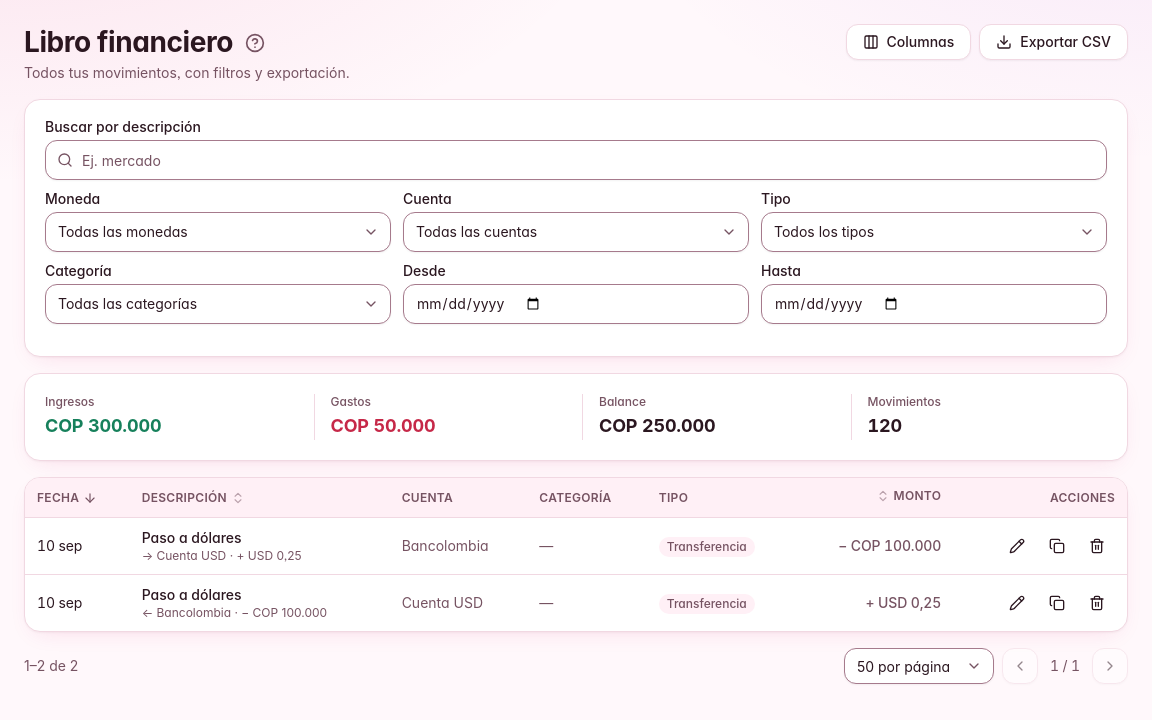
Test: Ledger — editar transferencias (M8) › abre la transferencia completa con el importe de cada pata
The width and height of the screenshot is (1152, 720).
Click the button named "Editar Paso a dólares" in the row of "→ Cuenta USD · + USD 0,25". click: [1017, 546]
box: [999,528,1035,564]
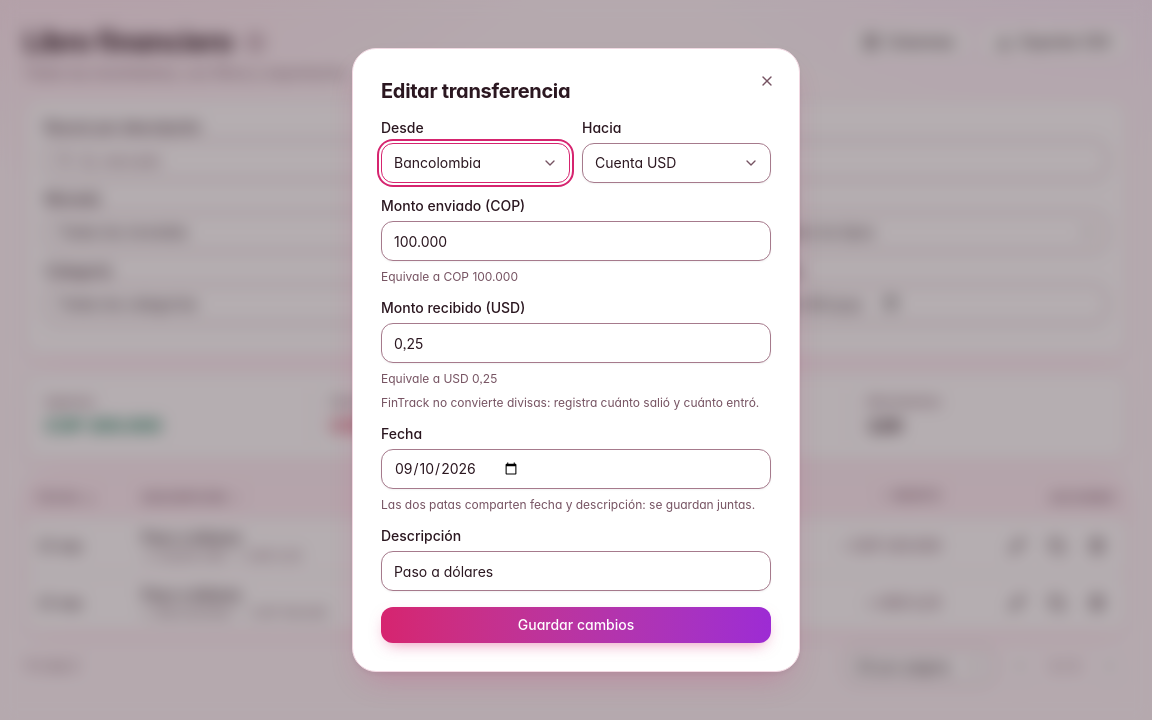
Expected: the heading "Editar transferencia" is shown, [381,79,570,103]
Expected: the field labelled "Monto enviado (COP)" holds "100.000", [381,221,771,261]
Expected: the field labelled "Monto recibido (USD)" holds "0,25", [381,323,771,363]
